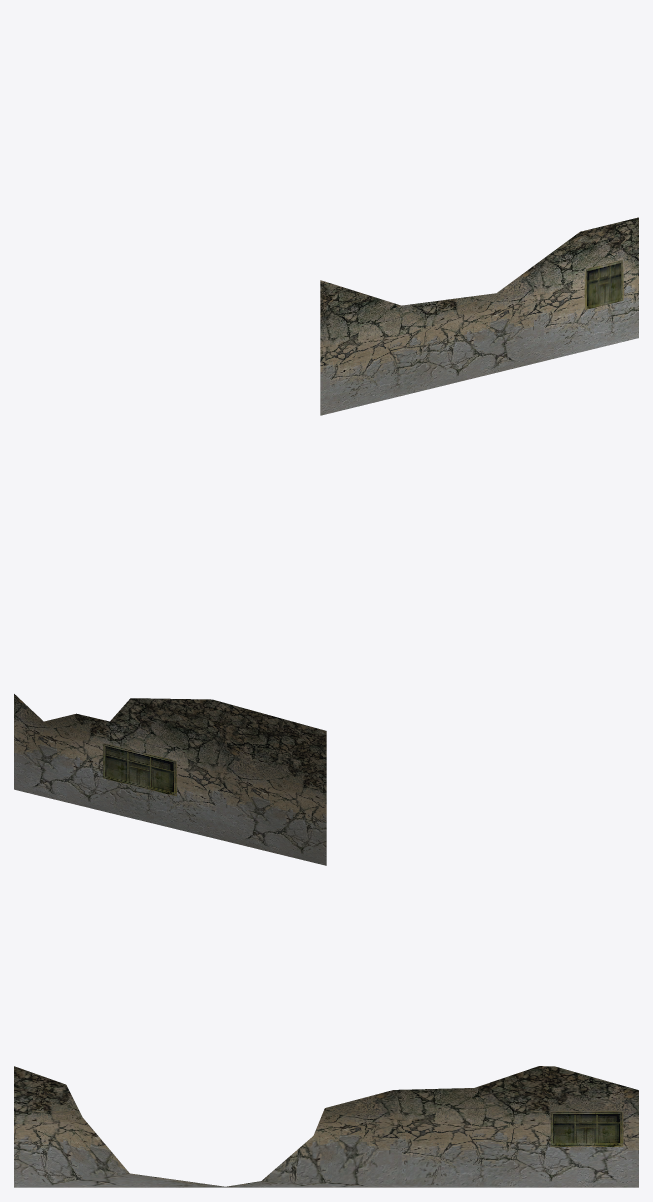
The model's file is M10_Z2_Ruins02.glb.
3 renders of one model, top to bottom at view 1: azimuth 30°, elevation 25°; view 2: azimuth 150°, elevation 25°; view 3: azimuth 270°, elevation 25°, orthographic.
Parts seen in each view (by area): view 1: M10_Z2_RUINS02; view 2: M10_Z2_RUINS02; view 3: M10_Z2_RUINS02.
Boxes of the visible parts, x1,y1,x2,y2 form: M10_Z2_RUINS02: [320, 217, 638, 415]; M10_Z2_RUINS02: [14, 694, 326, 865]; M10_Z2_RUINS02: [14, 1066, 638, 1187].
Bounding box in the file's own units: 11.86 × 4.96 × 20.01.
Materials: 2 (2 with a texture image).
